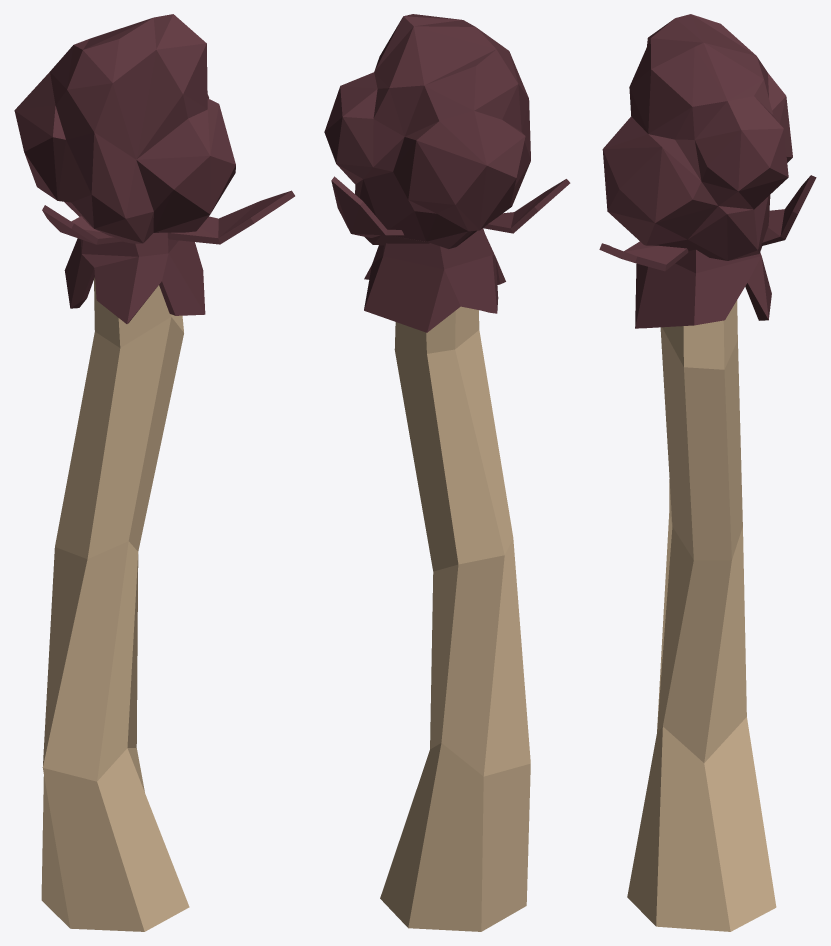
Rendered from SM_Cycad_Prehistoric_Big.fbx.
The picture shows the model from 3 angles, left to right: view 1: azimuth 30°, elevation 25°; view 2: azimuth 150°, elevation 25°; view 3: azimuth 270°, elevation 25°; orthographic projection.
Visible parts, largest first — view 1: SM_Cycad_Prehistoric_Big; view 2: SM_Cycad_Prehistoric_Big; view 3: SM_Cycad_Prehistoric_Big.
Boxes of the visible parts, bbox=[...] form: SM_Cycad_Prehistoric_Big: bbox=[14, 14, 294, 931]; SM_Cycad_Prehistoric_Big: bbox=[324, 14, 570, 931]; SM_Cycad_Prehistoric_Big: bbox=[599, 14, 816, 931].
Size of the model in its own units: 2.48 by 9.29 by 2.07.
